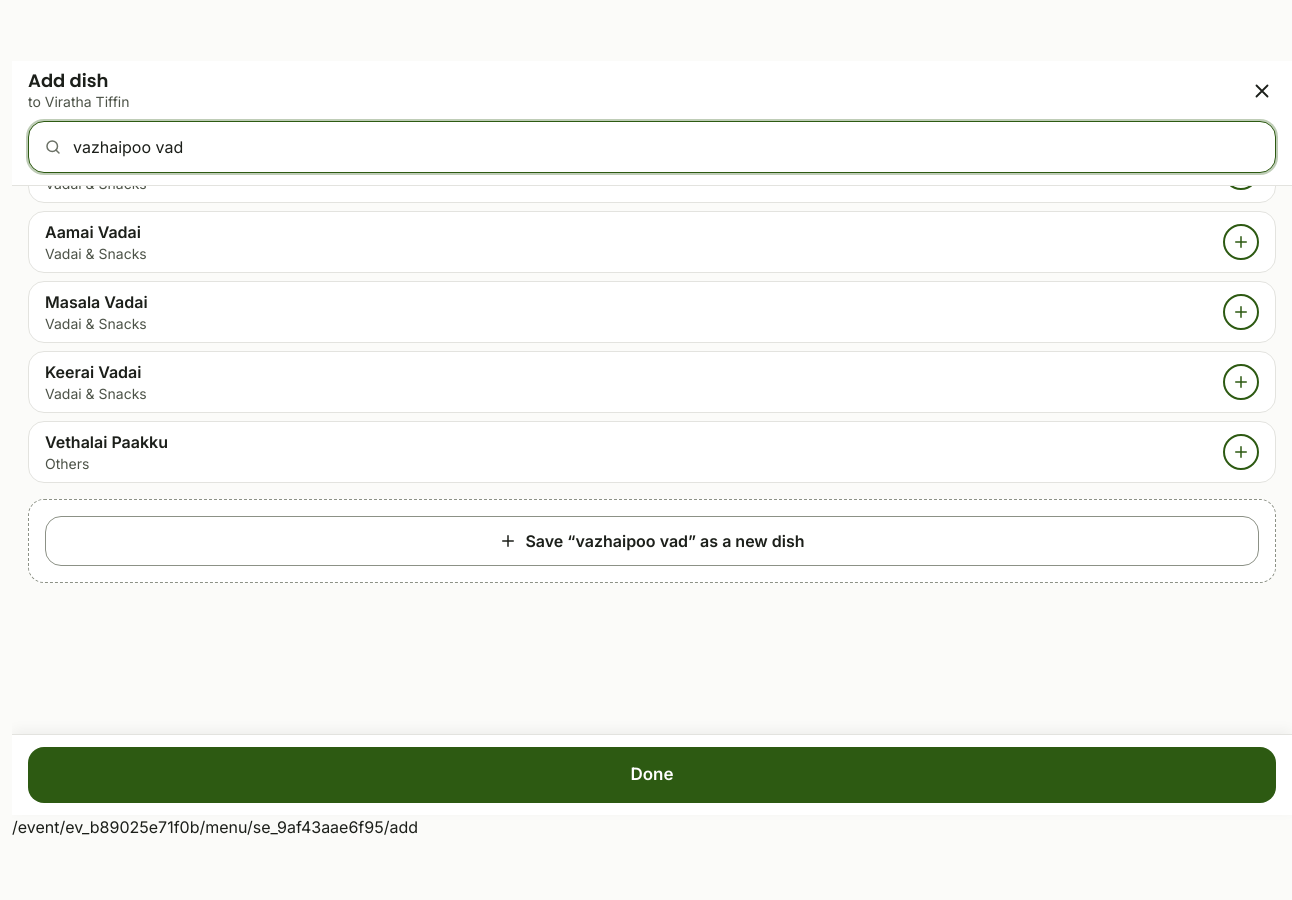
Add dish › asks about the spelling before saving a new dish
Earlier steps of the test are not shown.
Later steps or results of the test are not shown.
Replace the text in the field named "Search dishes" with "vazhaipoo vadi". click: (652, 147)
box: top-left (28, 121), bottom-right (1276, 173)
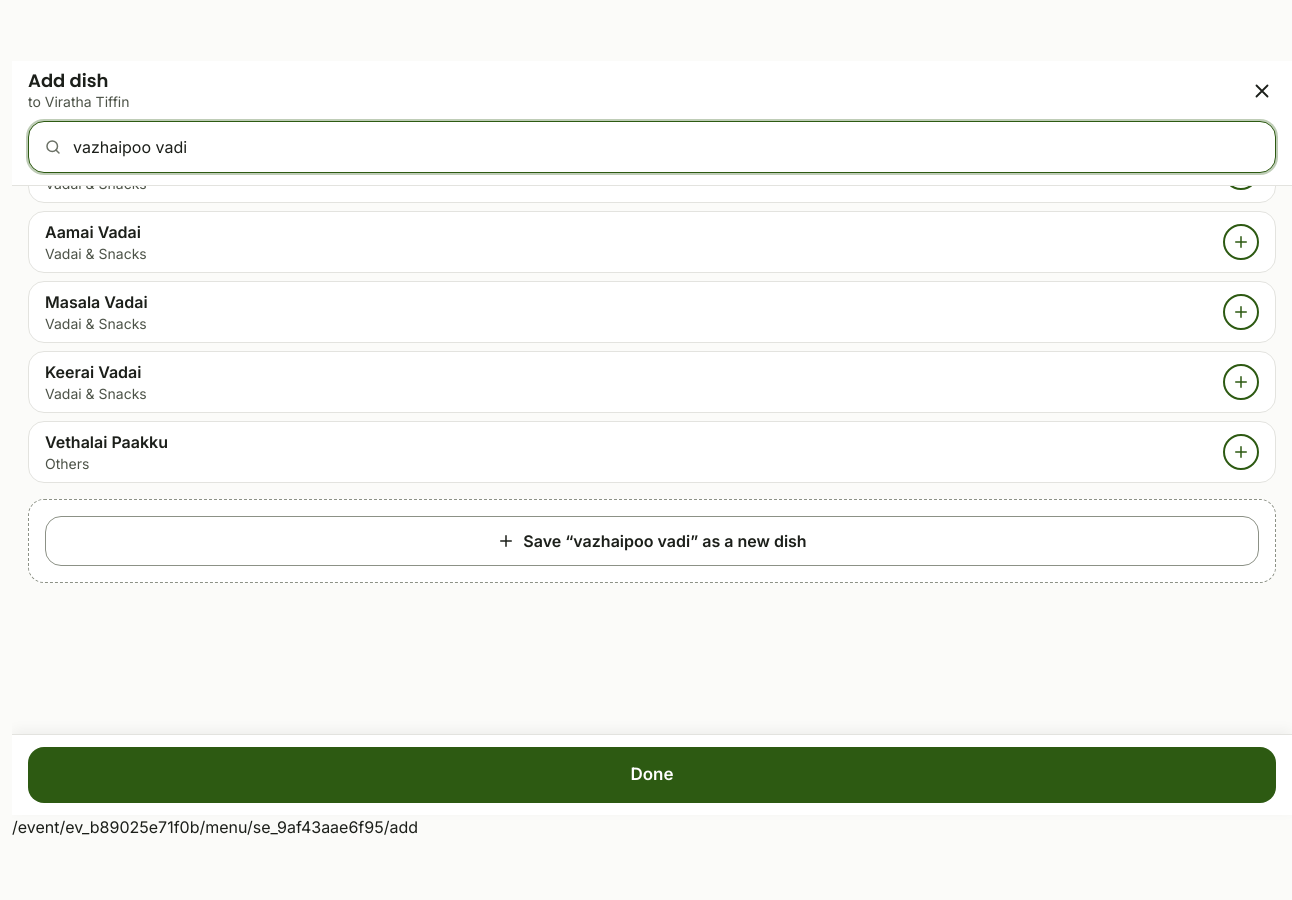
Click the button "Save “vazhaipoo vadi” as a new dish". click: click(652, 541)
box: top-left (45, 516), bottom-right (1259, 566)
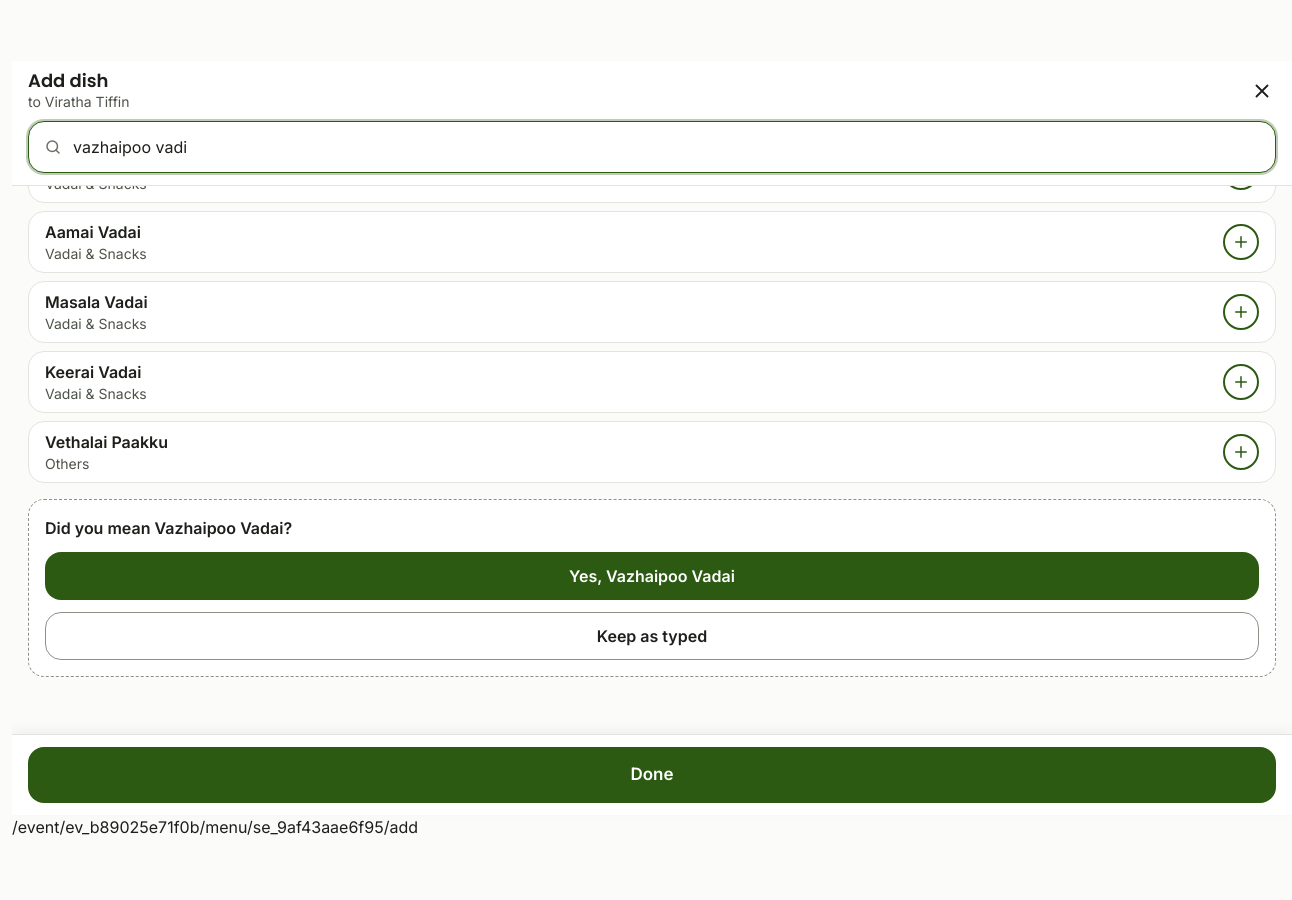
Now the text "Did you mean Vazhaipoo Vadai?" is shown, box top-left (45, 518), bottom-right (292, 538)
